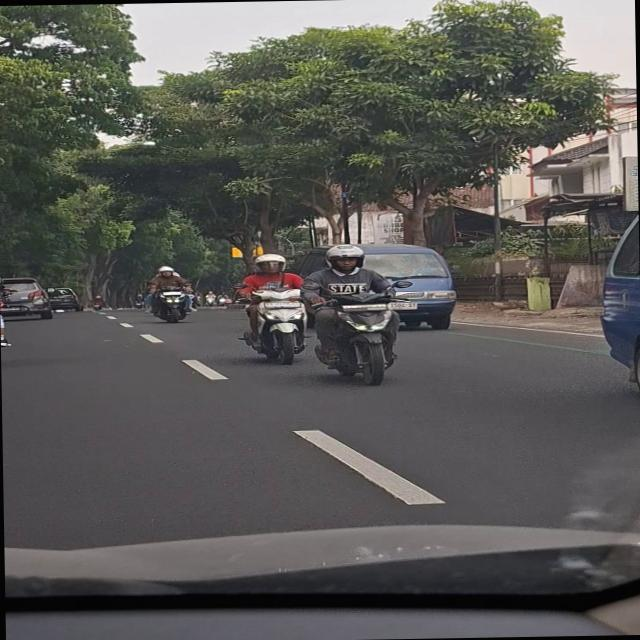WithHelmet: (298, 243, 402, 365), (234, 252, 314, 346), (142, 265, 198, 315), (90, 295, 103, 307)
